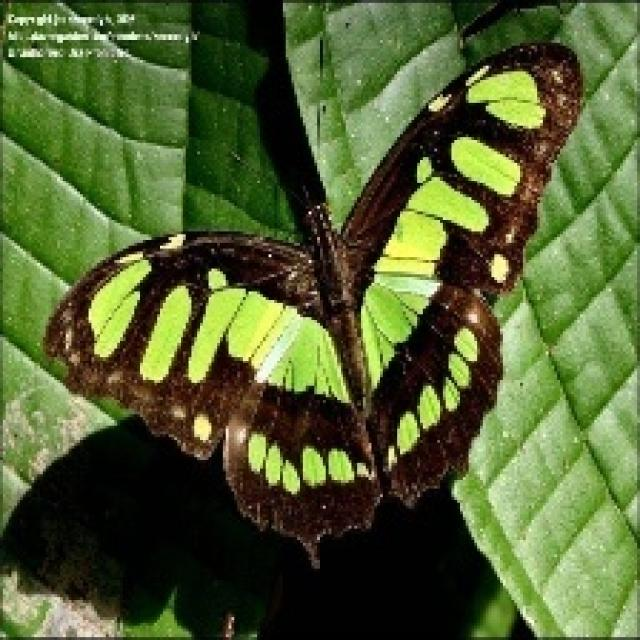butterfly: (40, 37, 583, 566)
